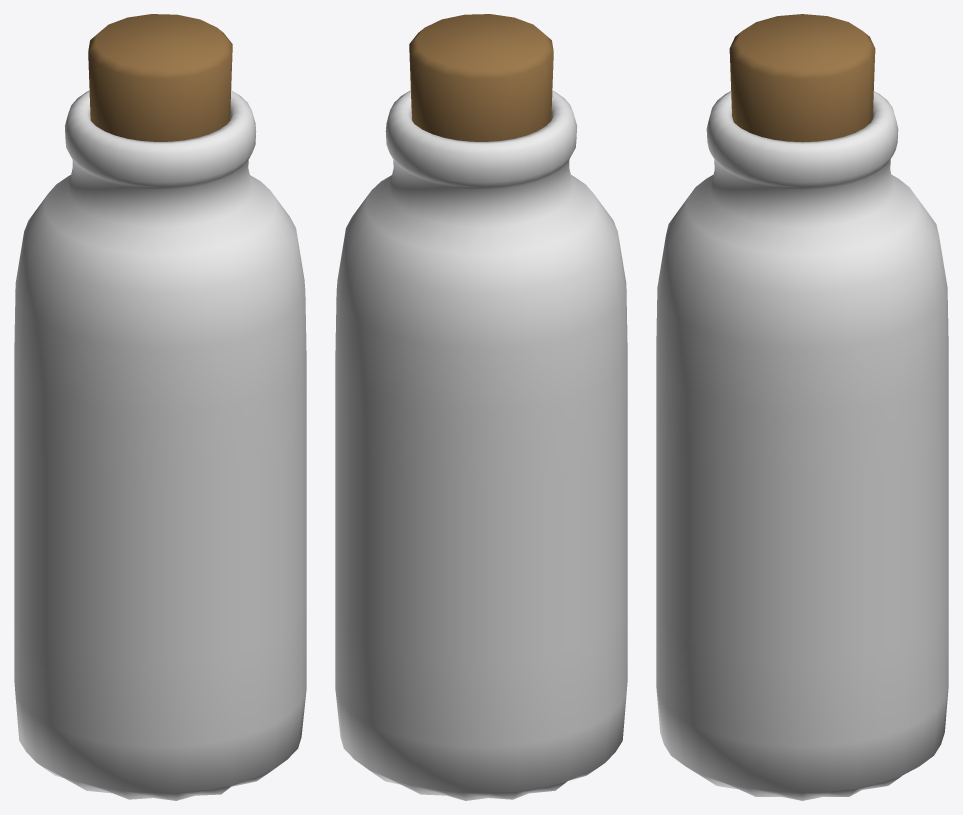
File: Small.glb
3 views of the same model, side by side, from view 1: azimuth 30°, elevation 25°; view 2: azimuth 150°, elevation 25°; view 3: azimuth 270°, elevation 25° (orthographic).
Visible parts, largest first — view 1: SmallBottle, SmallFixins; view 2: SmallBottle, SmallFixins; view 3: SmallBottle, SmallFixins.
Boxes of the visible parts, left/top/right/bottom form: SmallBottle: left=14, top=90, right=306, bottom=800; SmallFixins: left=88, top=14, right=232, bottom=141; SmallBottle: left=335, top=90, right=627, bottom=800; SmallFixins: left=409, top=14, right=553, bottom=141; SmallBottle: left=656, top=91, right=948, bottom=800; SmallFixins: left=729, top=14, right=875, bottom=142.
Bounding box in the file's own units: 1.95 × 5.28 × 1.95.
